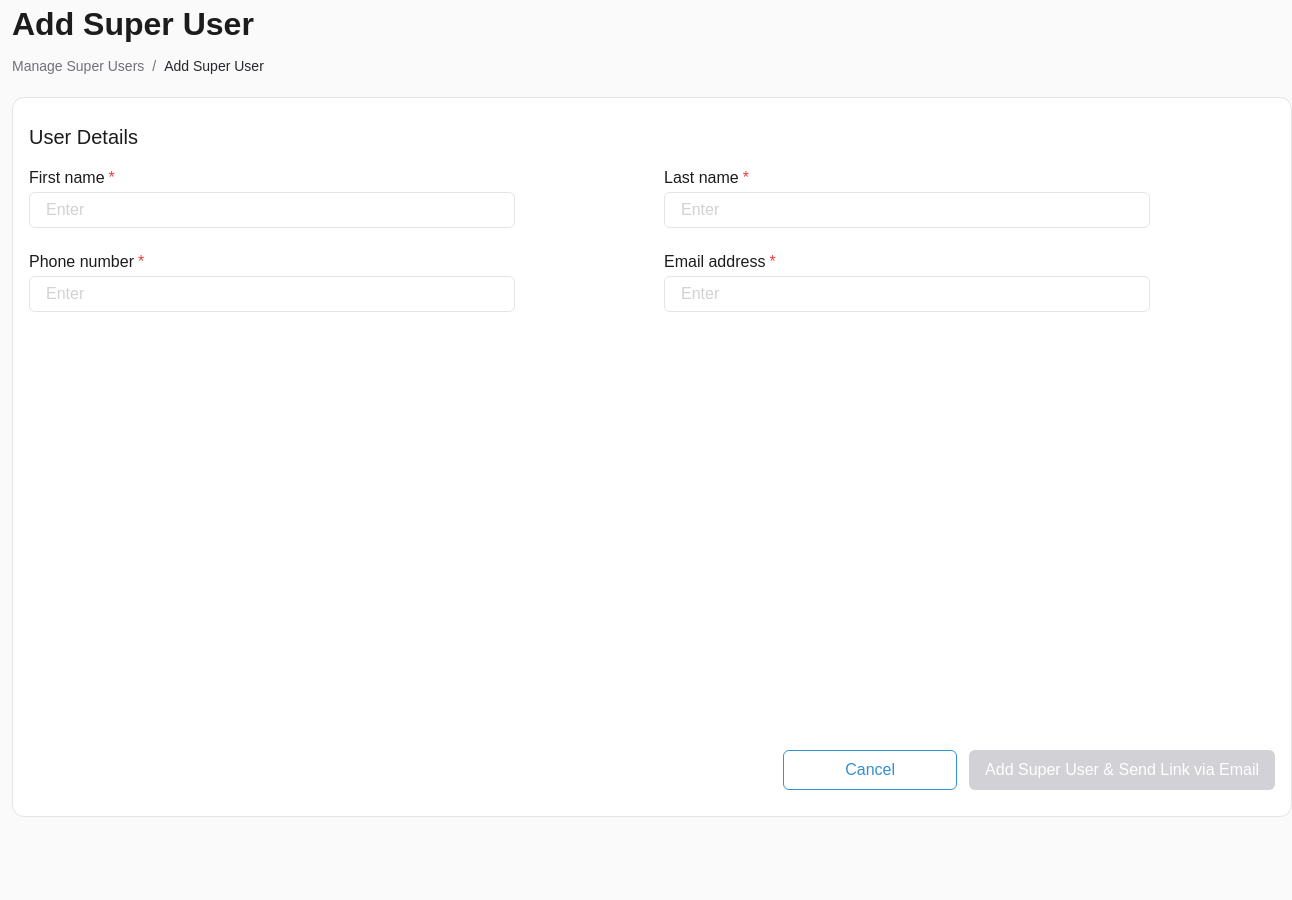
InviteSuperUserPage › submit button is enabled when email is valid
Type "Raj" into the field labelled "First name*" at point(272, 210), box [29,192,515,228]
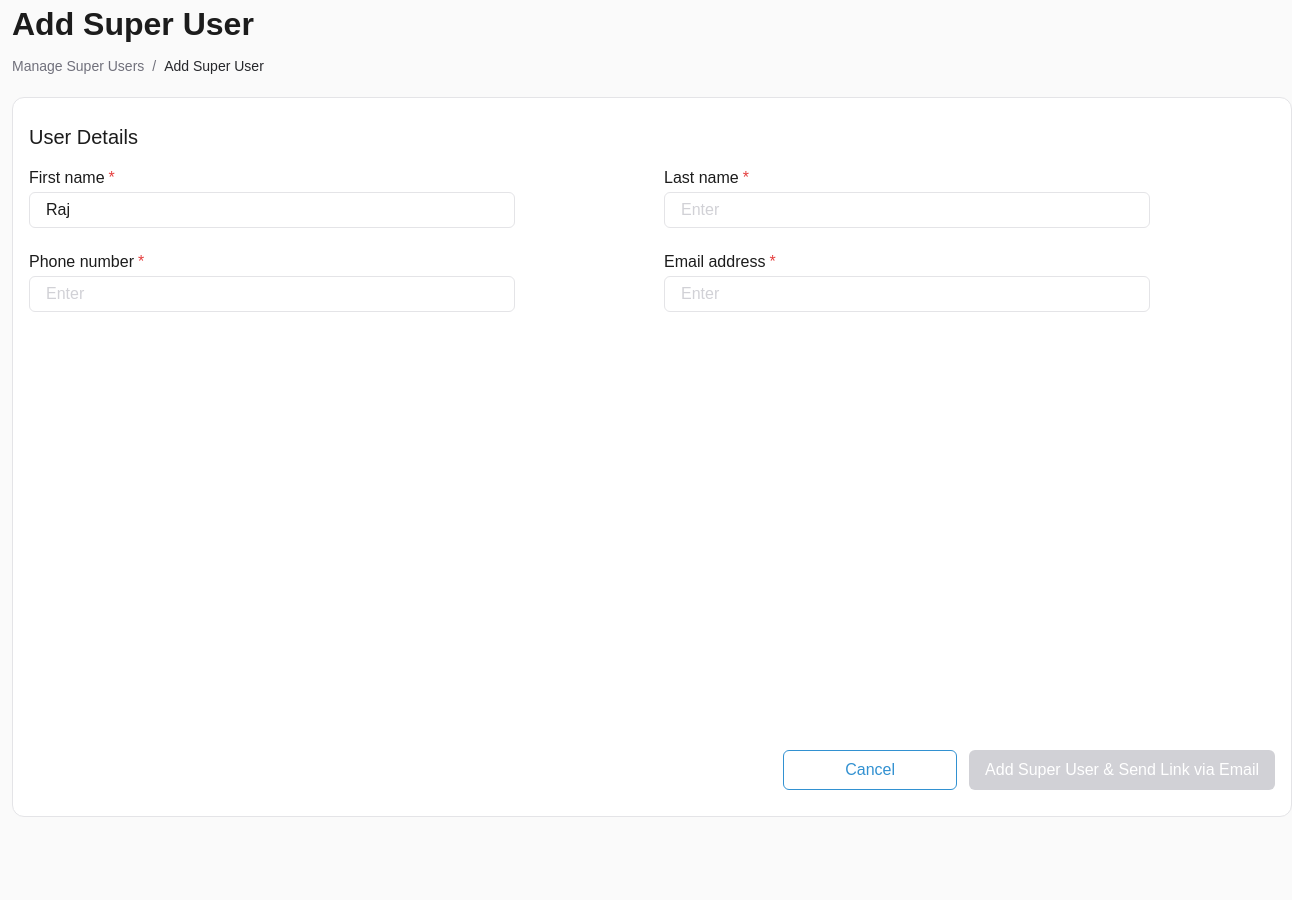
Type "Sharma" into the field labelled "Last name*" at point(907, 210), box [664,192,1150,228]
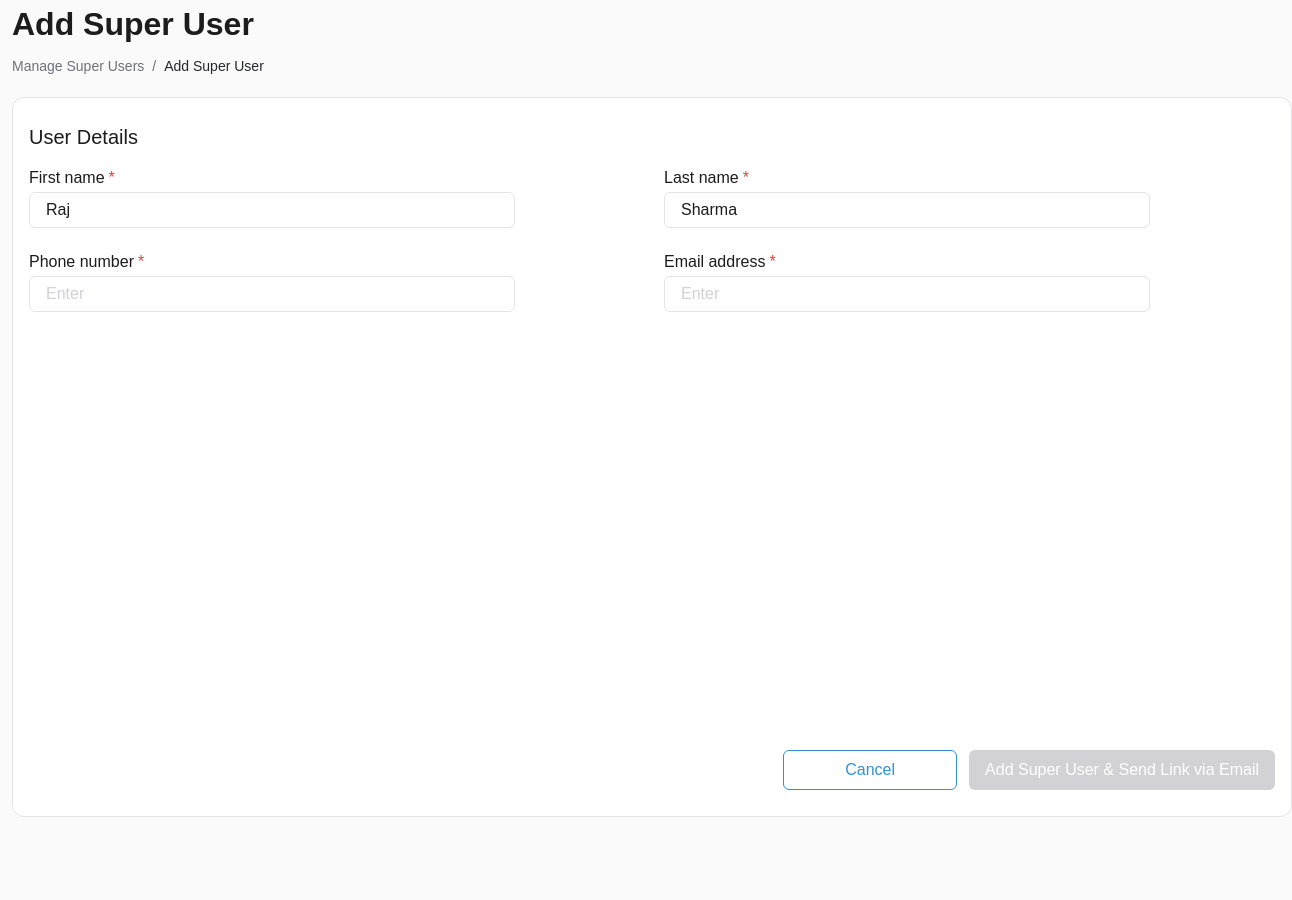
Type "9876543210" into the field labelled "Phone number*" at point(272, 294), box [29,276,515,312]
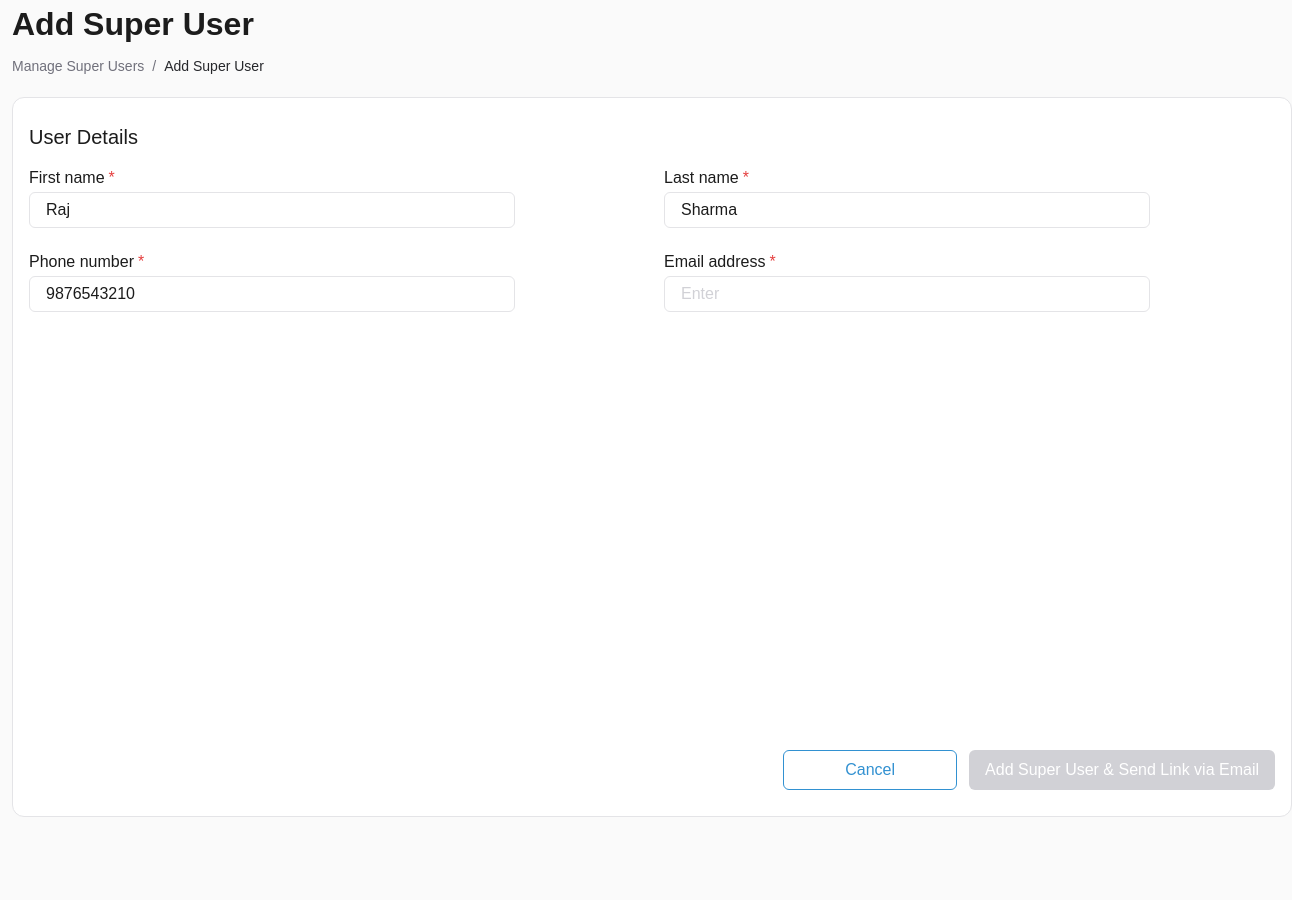
Type "valid@example.com" into the field labelled "Email address*" at point(907, 294), box [664,276,1150,312]
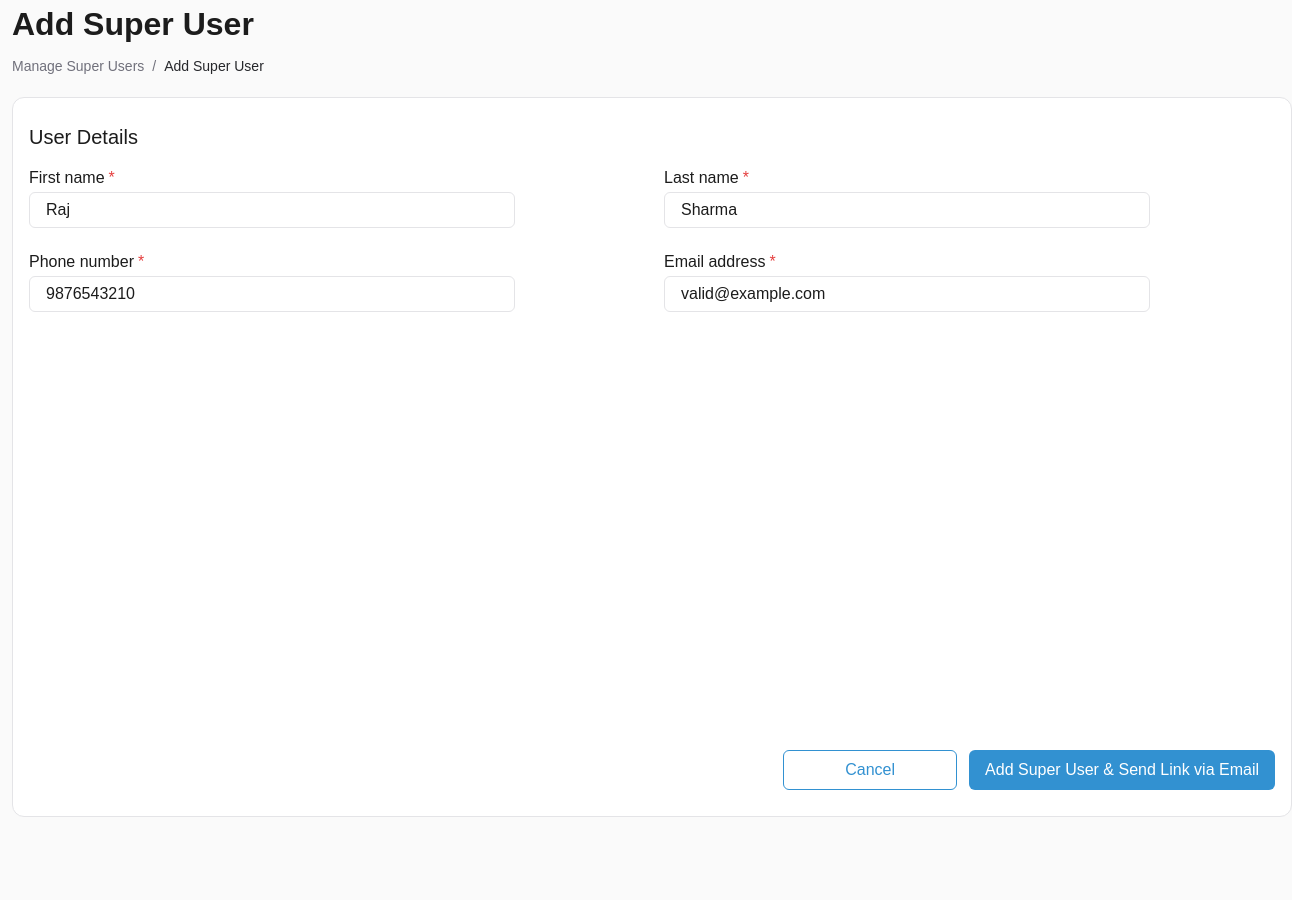
Expected: the button "Add Super User & Send Link via Email" is enabled, [969,750,1275,790]
